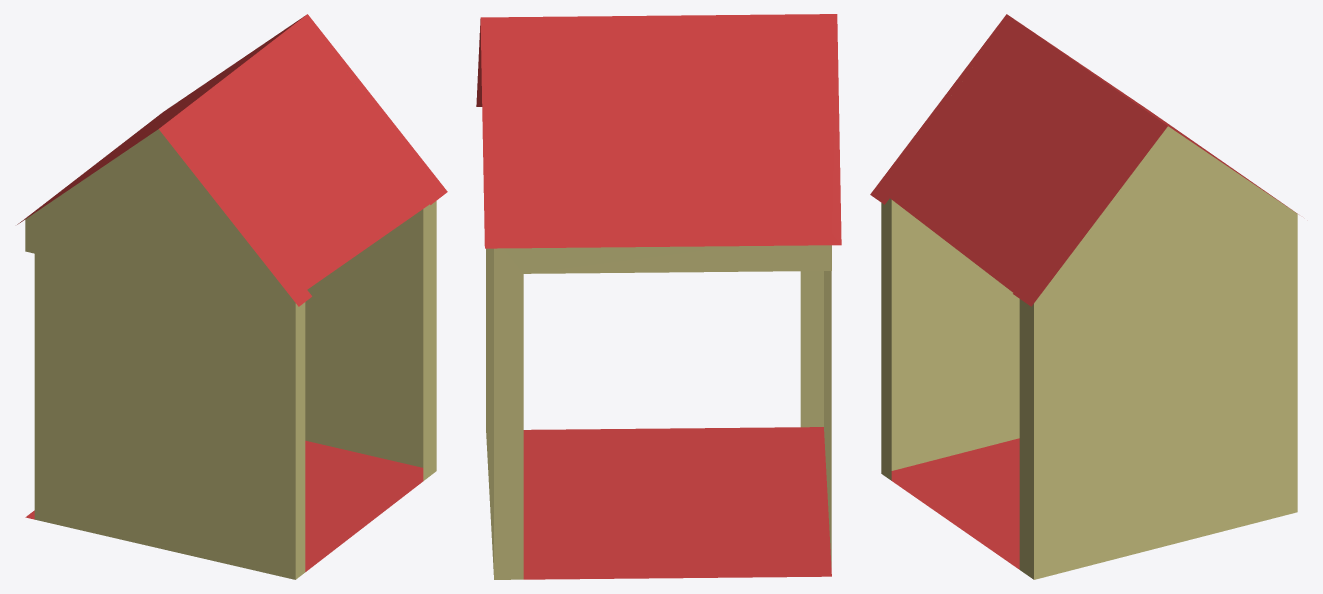
3 views of the same model, side by side, from view 1: azimuth 30°, elevation 25°; view 2: azimuth 150°, elevation 25°; view 3: azimuth 270°, elevation 25° (orthographic). The views are drawn at different scales.
Bounding box in the file's own units: 13.23 × 13.38 × 14.25.
